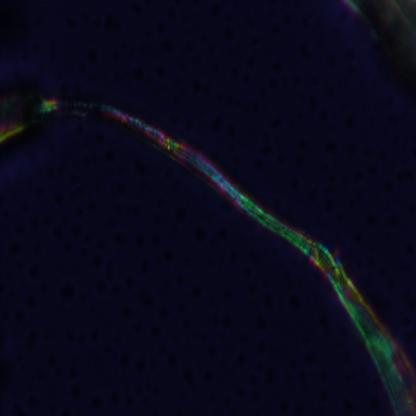Microfibre: (0, 93, 416, 414)
